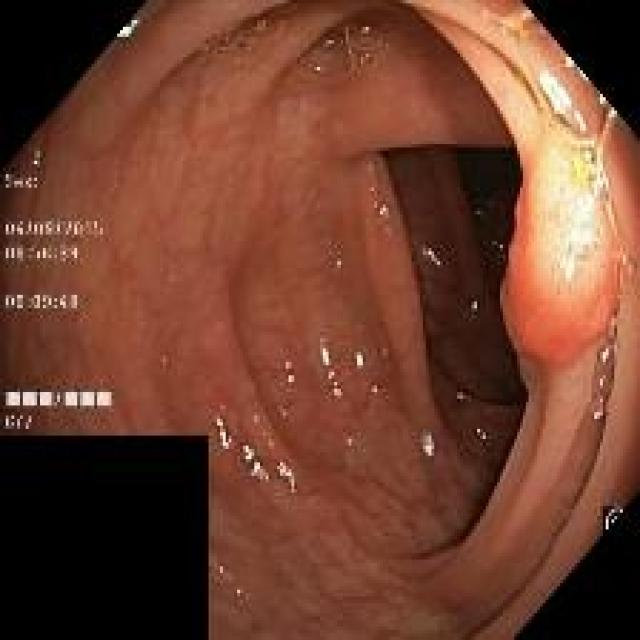Polyps: (502, 125, 619, 364)
